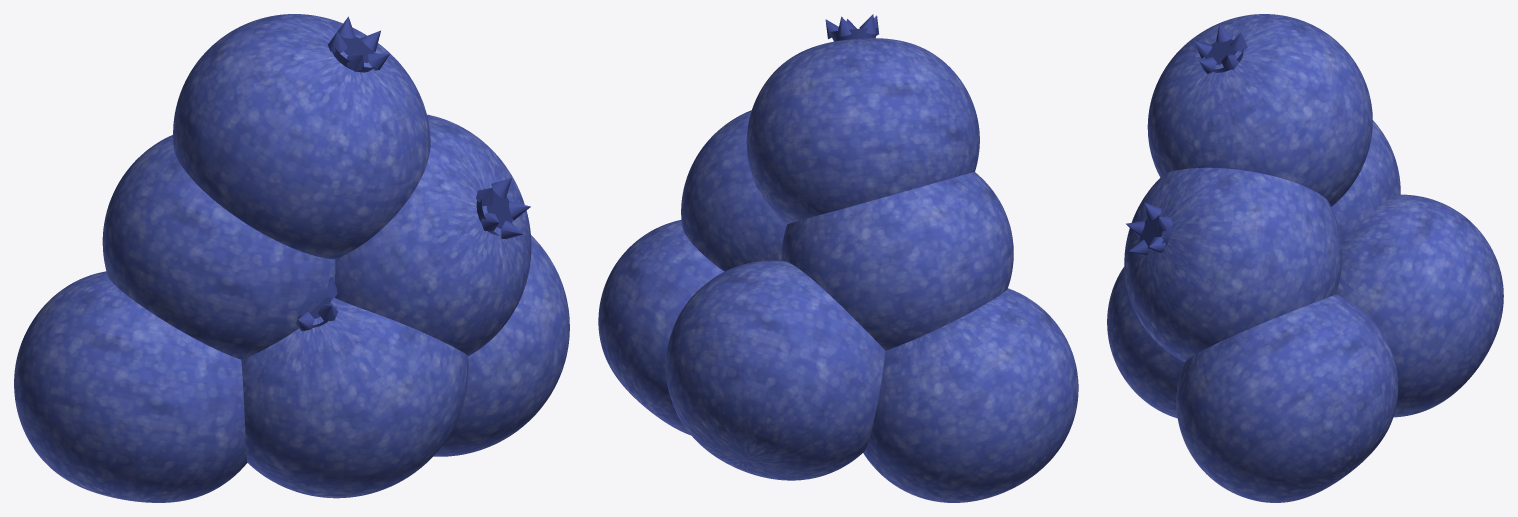
The model's file is blueberry.glb.
3 views of the same model, side by side, from view 1: azimuth 30°, elevation 25°; view 2: azimuth 150°, elevation 25°; view 3: azimuth 270°, elevation 25° (orthographic). The views are drawn at different scales.
Bounding box in the file's own units: 0.1347 × 0.1191 × 0.104.
Materials: 15 (1 with a texture image).
